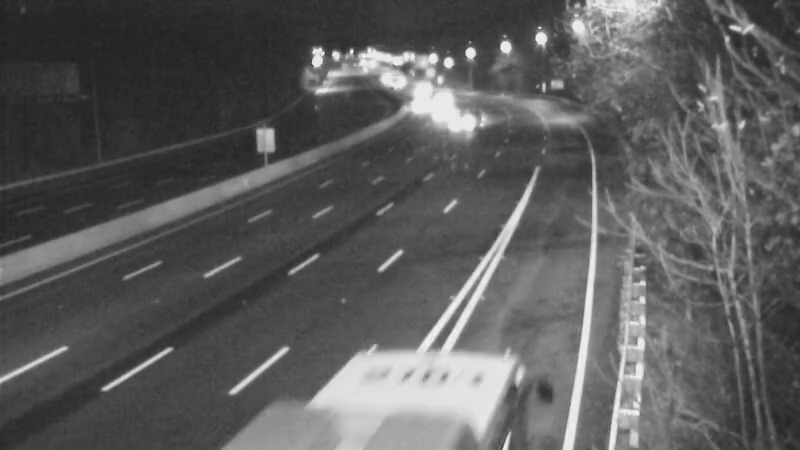vehicle: (395, 63, 445, 113), (415, 72, 465, 122), (396, 81, 446, 131), (418, 86, 468, 136), (440, 91, 490, 141)
